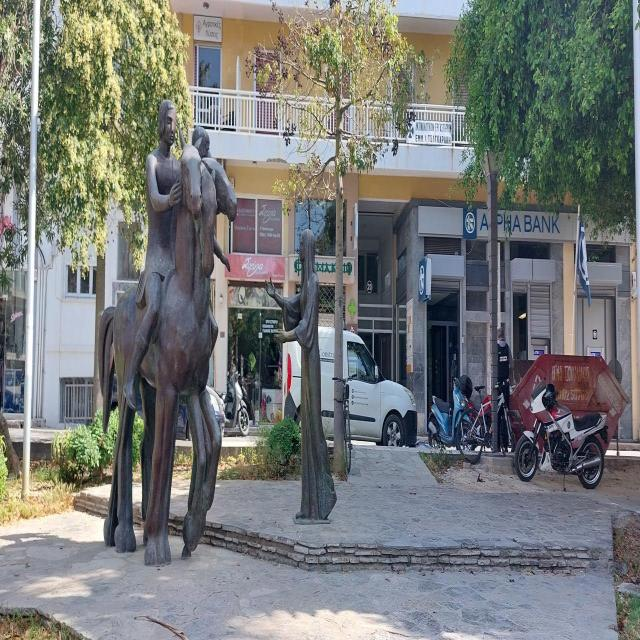Aretousa: (99, 100, 338, 566)
